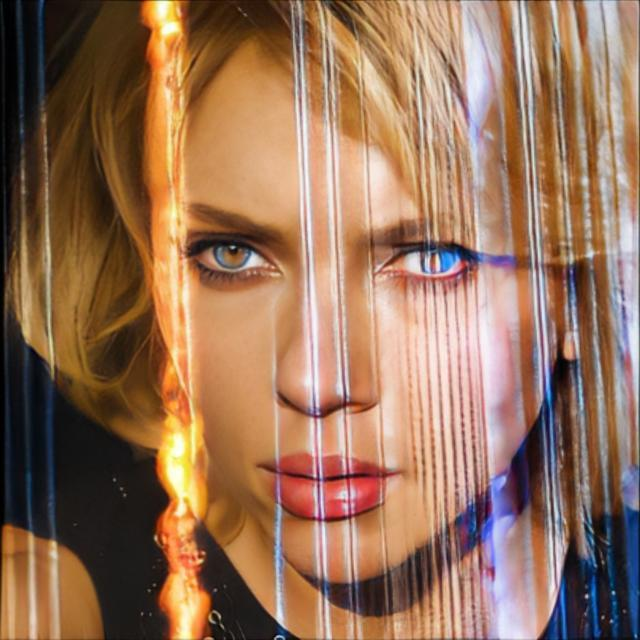anger: (146, 35, 560, 588)
